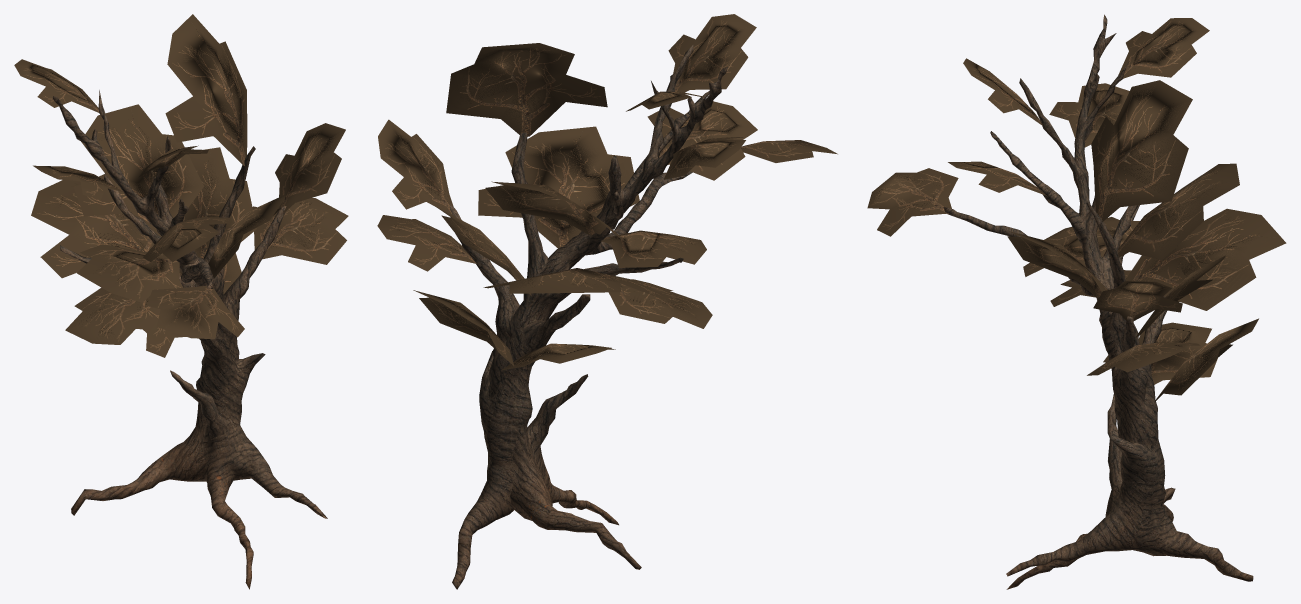
File: static.fbx
3 views of the same model, side by side, from view 1: azimuth 30°, elevation 25°; view 2: azimuth 150°, elevation 25°; view 3: azimuth 270°, elevation 25° (orthographic). The views are drawn at different scales.
Visible parts, largest first — view 1: branches_3, tree3; view 2: branches_3, tree3; view 3: branches_3, tree3.
Part boxes in pixels (x1,y1,x2,y2): branches_3: (14, 14, 348, 357); tree3: (52, 90, 327, 589); branches_3: (377, 14, 837, 370); tree3: (450, 44, 727, 589); branches_3: (867, 18, 1286, 402); tree3: (943, 14, 1253, 589).
Size of the model in its own units: 487 by 733 by 547.
Materials: 2 (2 with a texture image).
